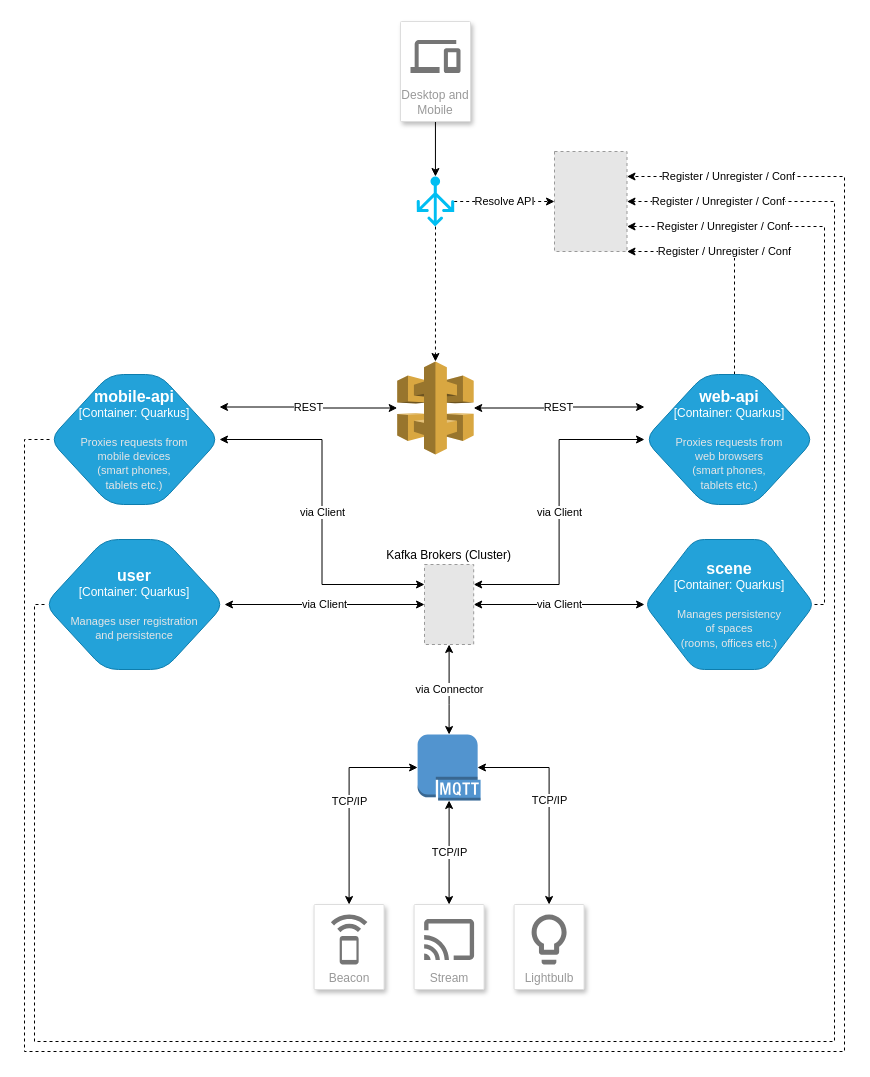
Image size: 870x1077. Some labels were removed from this diagram. Grey dashed boxes stand in for pictures. Here are the shapes that lost their labels. From the top down, the centre of each, then its label:
At point (435, 201): "Load Balancer".
At point (435, 407): "API Gateway".
At point (449, 767): "MQTT Brokers (Cluster)".
